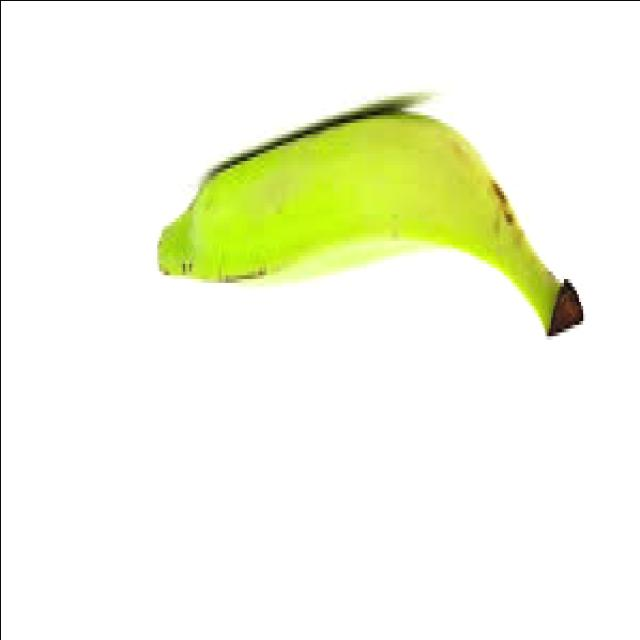non_orange: (154, 106, 580, 339)
